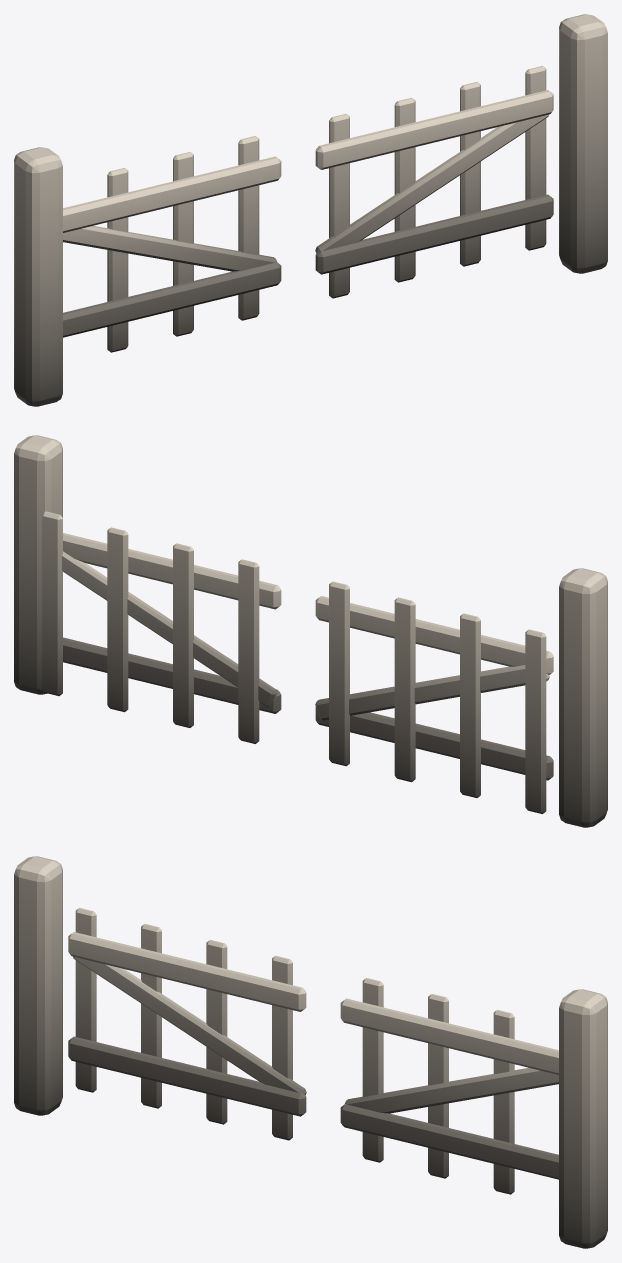
File: SM_VK_Prop_FenceGate.fbx
3 views of the same model, one above another, from view 1: azimuth 30°, elevation 25°; view 2: azimuth 150°, elevation 25°; view 3: azimuth 330°, elevation 25° (orthographic).
Parts seen in each view (by area): view 1: SM_VK_Prop_FenceGate.001; view 2: SM_VK_Prop_FenceGate.001; view 3: SM_VK_Prop_FenceGate.001.
Part boxes in pixels (bbox=[...]): SM_VK_Prop_FenceGate.001: bbox=[14, 14, 607, 406]; SM_VK_Prop_FenceGate.001: bbox=[14, 435, 607, 827]; SM_VK_Prop_FenceGate.001: bbox=[14, 856, 607, 1248].
Bounding box in the file's own units: 3.2 × 1.3 × 0.28.
